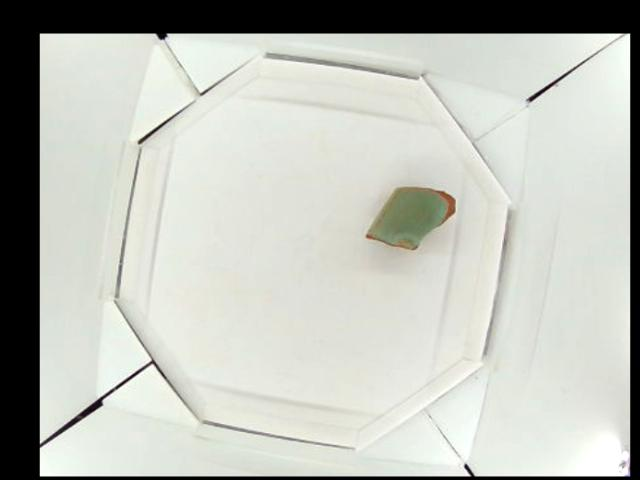China: (364, 184, 458, 249)
